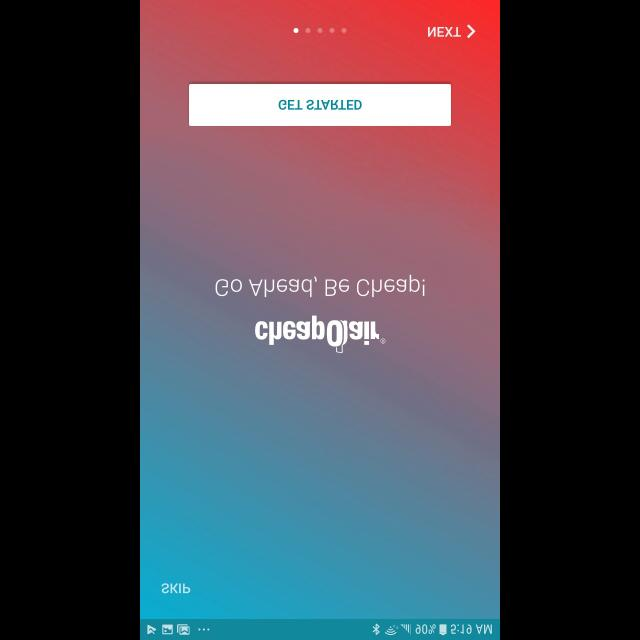icon: (466, 24, 476, 38)
image: (254, 315, 386, 353)
pageindicator: (293, 28, 347, 34)
text: (215, 274, 425, 298), (427, 27, 461, 38), (162, 582, 190, 594)
textbutton: (189, 84, 451, 126)
uppertaskbar: (140, 618, 500, 640)
